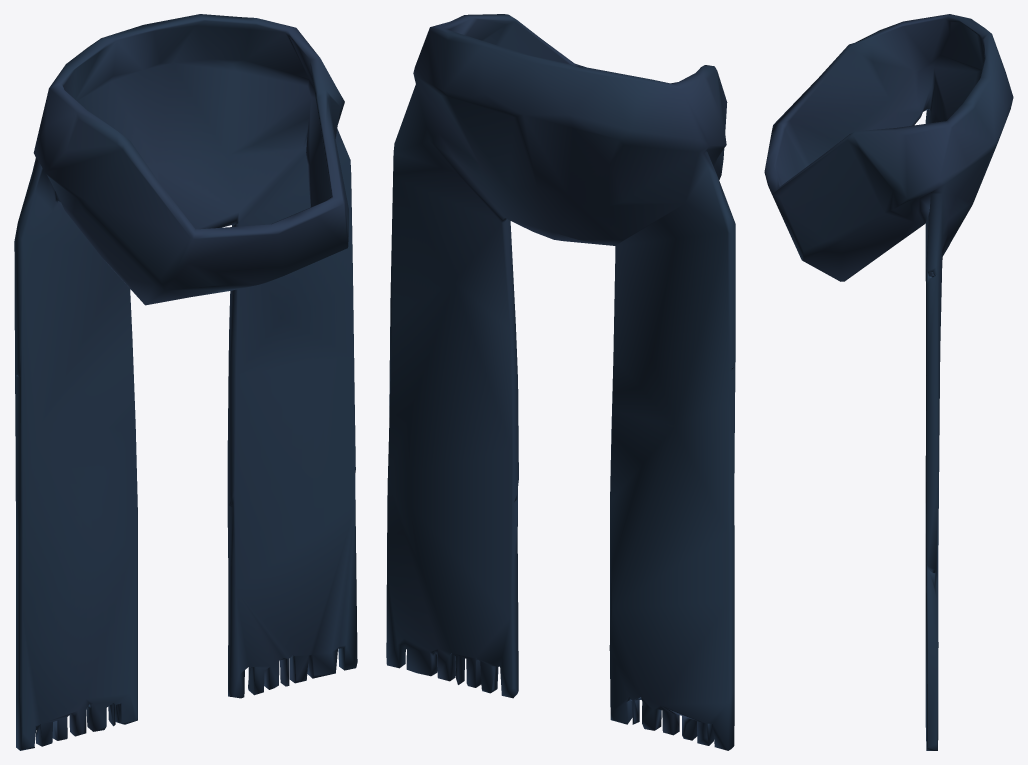
The model's file is gen3d-scarf-lod1.glb.
3 views of the same model, side by side, from view 1: azimuth 30°, elevation 25°; view 2: azimuth 150°, elevation 25°; view 3: azimuth 270°, elevation 25° (orthographic). The views are drawn at different scales.
Visible parts, largest first — view 1: part_0; view 2: part_0; view 3: part_0.
Boxes of the visible parts, x1=… form: part_0: x1=14, y1=14, x2=357, y2=750; part_0: x1=386, y1=14, x2=735, y2=750; part_0: x1=764, y1=14, x2=1013, y2=750.
Bounding box in the file's own units: 0.5346 × 0.9999 × 0.364.
